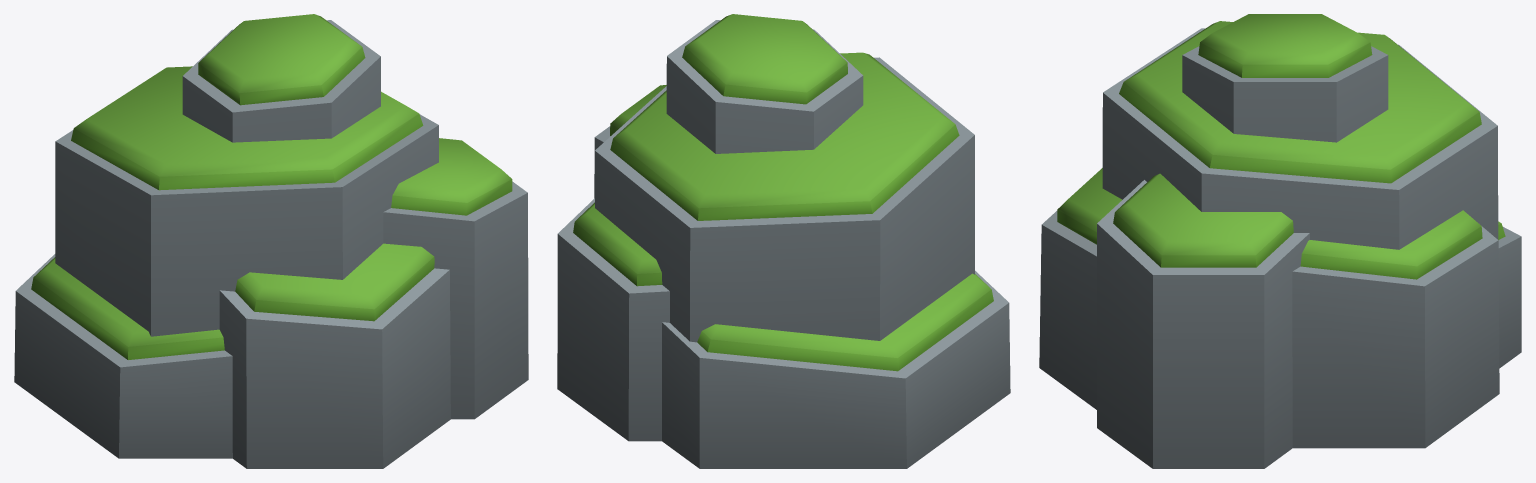
File: mountain_a.glb
The picture shows the model from 3 angles, left to right: view 1: azimuth 30°, elevation 25°; view 2: azimuth 150°, elevation 25°; view 3: azimuth 270°, elevation 25°; orthographic projection. The views are drawn at different scales.
Visible parts, largest first — view 1: mountain_A_grass; view 2: mountain_A_grass; view 3: mountain_A_grass.
Part boxes in pixels (x1=…): mountain_A_grass: x1=14, y1=14, x2=528, y2=468; mountain_A_grass: x1=557, y1=14, x2=1010, y2=468; mountain_A_grass: x1=1039, y1=14, x2=1521, y2=468.
Size of the model in its own units: 1.8 by 1.5 by 1.88.
1 material, 1 textured.
